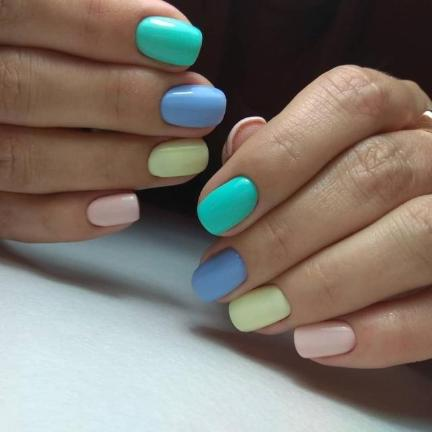Nail: (197, 175, 258, 236), (135, 16, 203, 66), (228, 285, 290, 333), (160, 84, 227, 128), (191, 249, 247, 301), (293, 320, 356, 359), (147, 138, 209, 177), (86, 193, 139, 226)
